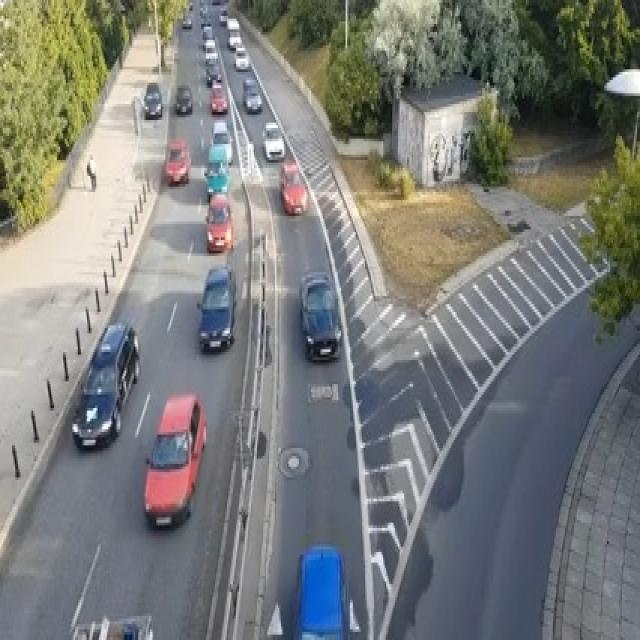car: (70, 320, 140, 451), (143, 392, 206, 528), (292, 544, 361, 637), (299, 269, 341, 360), (195, 264, 236, 352), (204, 192, 233, 251), (278, 160, 308, 213), (204, 144, 230, 200), (165, 139, 191, 184), (210, 120, 233, 163), (262, 120, 286, 160), (141, 80, 162, 117), (242, 77, 261, 112), (175, 82, 192, 114), (209, 83, 227, 112), (205, 59, 222, 85), (233, 46, 249, 70), (204, 38, 218, 62), (198, 24, 212, 48), (227, 32, 242, 48), (227, 16, 239, 29), (218, 8, 227, 24), (182, 13, 192, 27), (198, 3, 208, 16), (188, 0, 192, 8), (210, 0, 220, 3)
